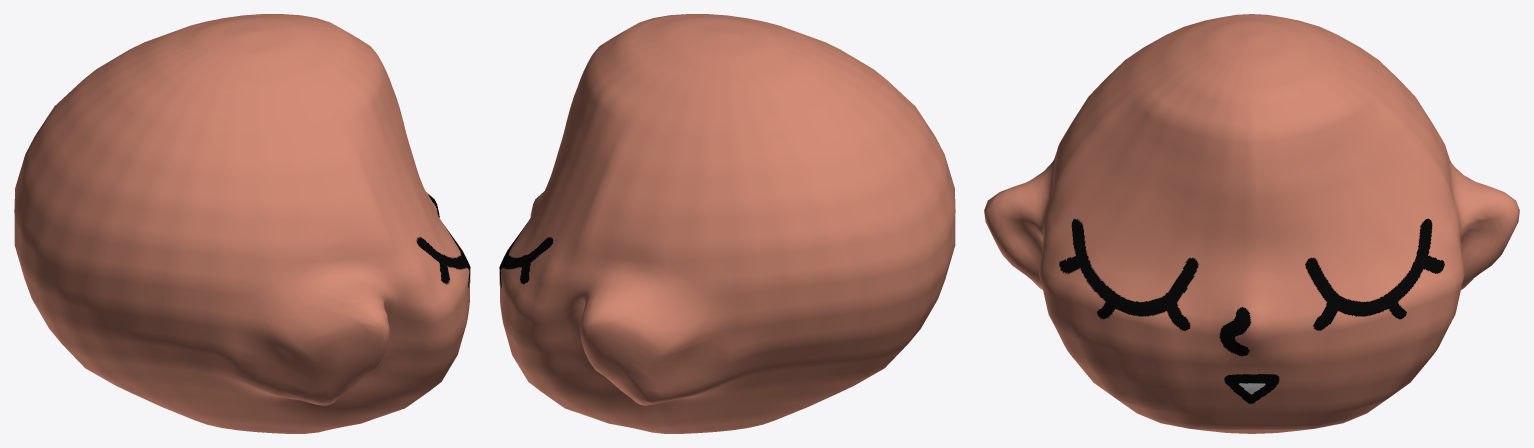
Rendered from head05BALD.glb.
3 views of the same model, side by side, from view 1: azimuth 30°, elevation 25°; view 2: azimuth 150°, elevation 25°; view 3: azimuth 270°, elevation 25° (orthographic). The views are drawn at different scales.
Visible parts, largest first — view 1: head; view 2: head; view 3: head.
Boxes of the visible parts, <box> form: head: <box>14,14,470,433</box>; head: <box>499,14,955,433</box>; head: <box>984,14,1519,433</box>.
Size of the model in its own units: 1.84 by 1.7 by 2.28.
1 material, 1 textured.
